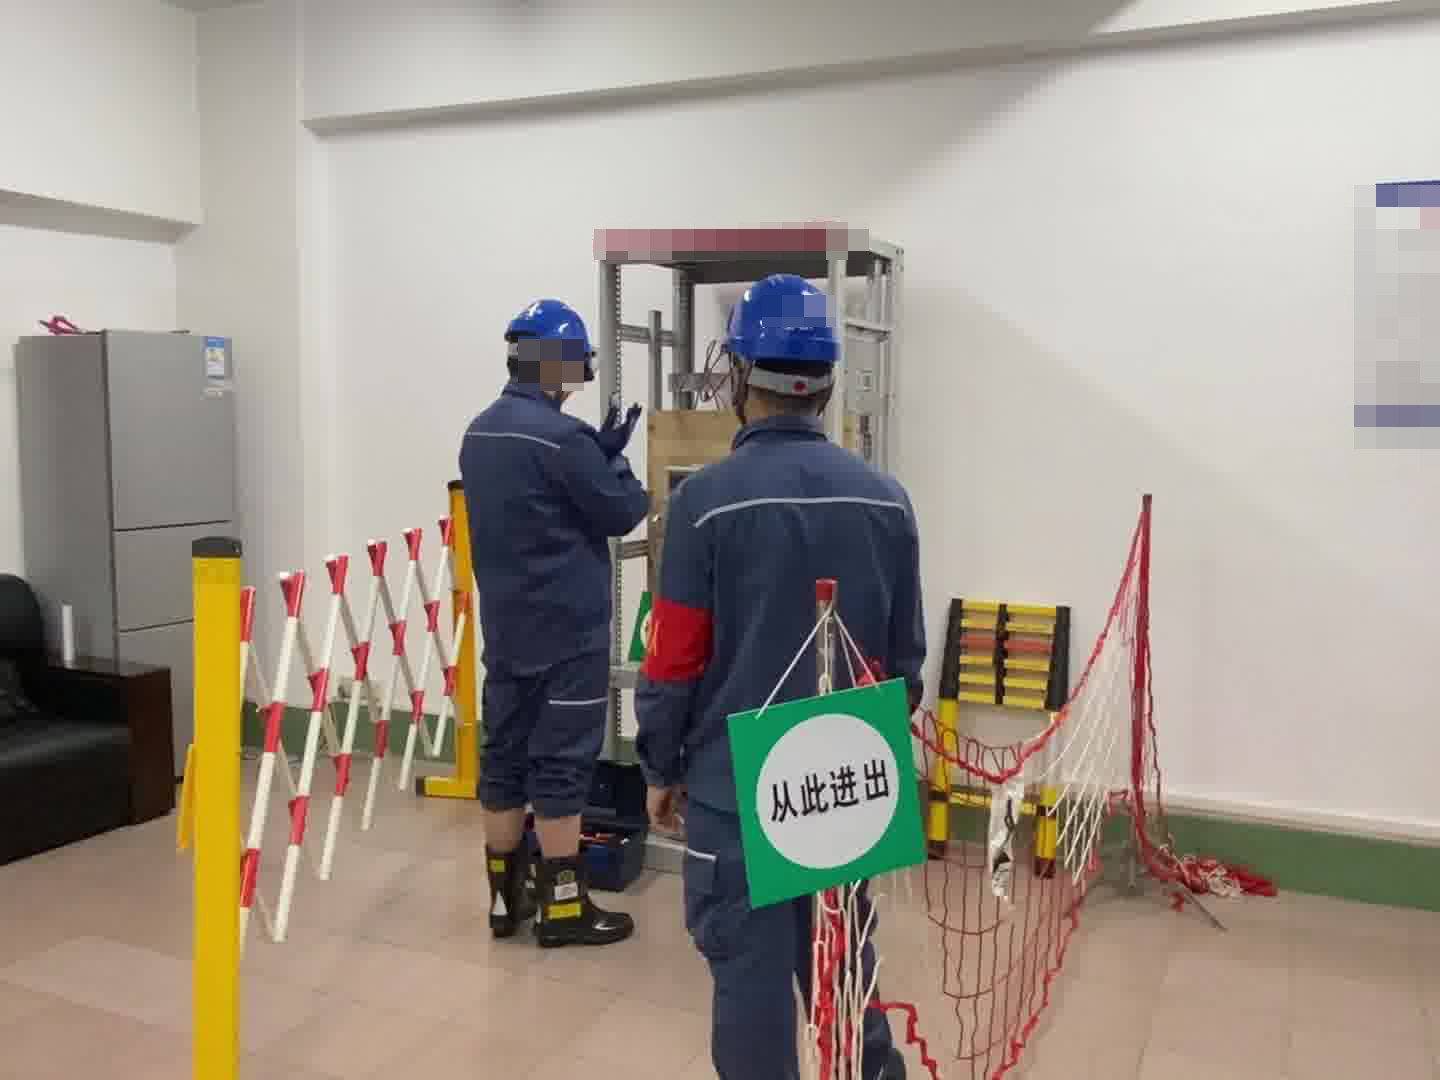badge: (640, 597, 715, 688)
downsuit: (664, 794, 915, 1080), (466, 636, 615, 821)
glove: (597, 402, 646, 457)
halt: (724, 273, 845, 416), (503, 298, 595, 393)
hand: (645, 774, 697, 843)
inear: (543, 349, 579, 400)
intosign: (714, 669, 934, 906)
person: (631, 269, 931, 1079), (451, 296, 647, 943)
shoe: (530, 856, 634, 948), (480, 836, 534, 945)
upsuit: (635, 422, 928, 815), (457, 385, 647, 652)
wrongbottom: (525, 757, 594, 862), (472, 751, 531, 858)
